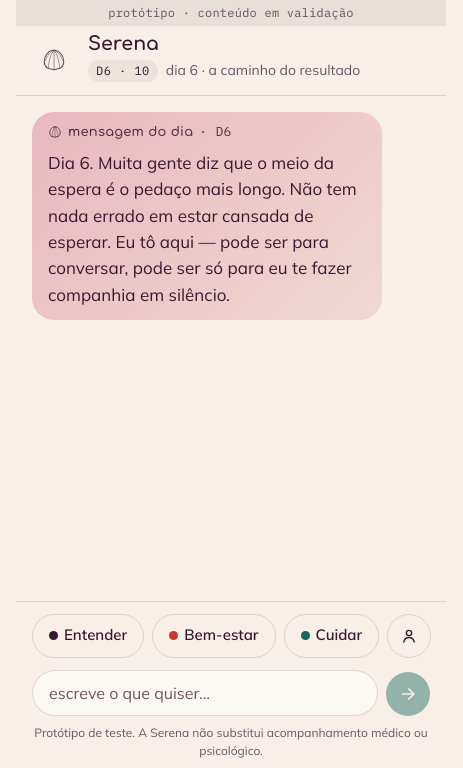
Chat (Degrau B) › erro do modelo mostra microcopy no Tom e Voz com "tentar de novo"
The image size is (463, 768).
Type "#erro" into the text box labelled "escreve o que quiser…".
click(205, 693); type("#erro")  # box 32,670 -> 378,716
Then press Enter
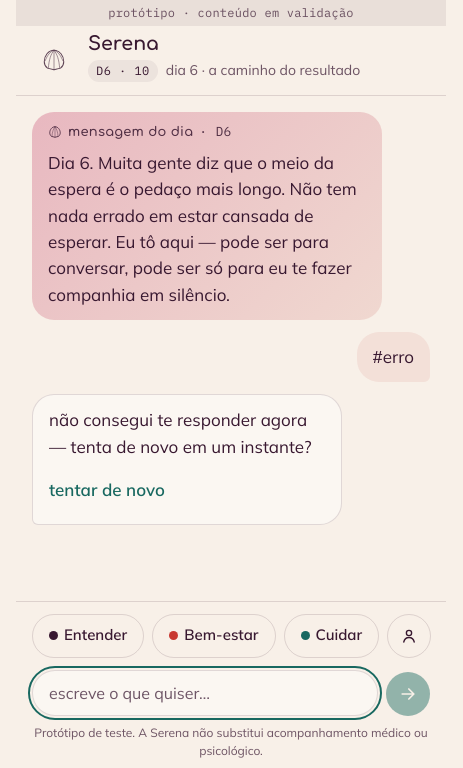
Expected: the text "não consegui te responder agora — tenta de novo em um instante?" is shown, 49,407 -> 325,460
Expected: the button "tentar de novo" is shown, 41,468 -> 173,512
